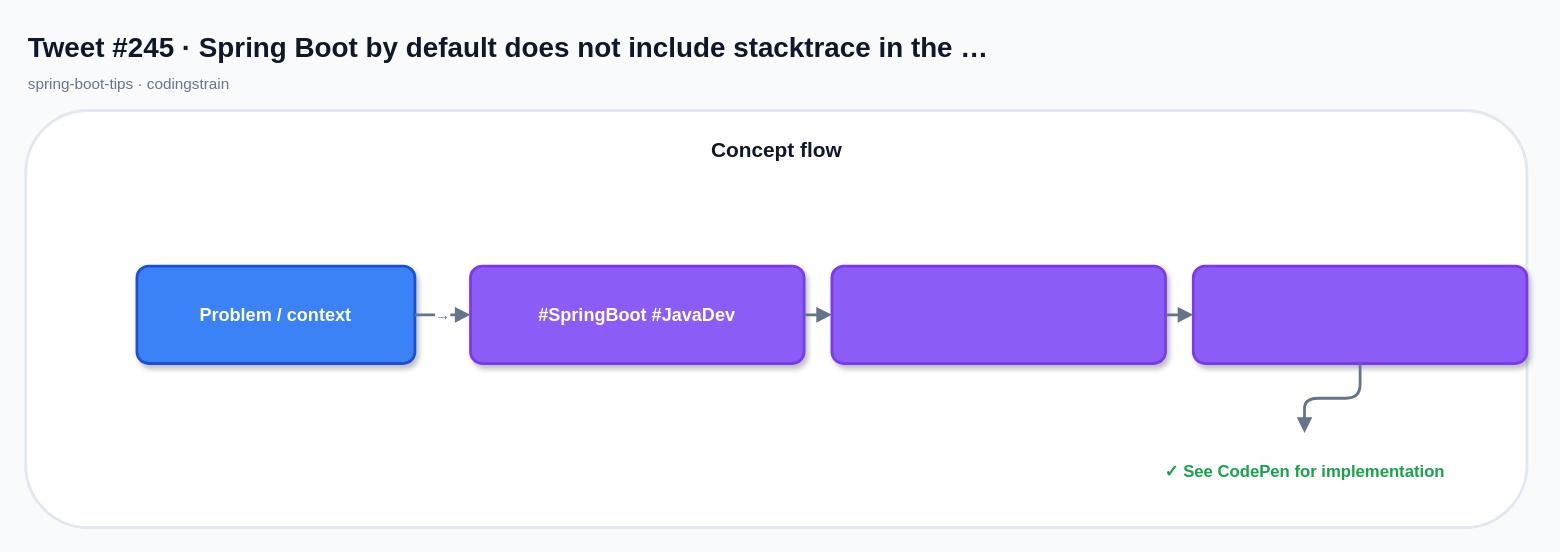
This 1560x552 diagram has some shape labels left out. Each missing label, with the centre of its shape:
"Architecture diagram + Carbon CodePen below" goes at point (1361, 316).
"Runnable sample: `spring-boot-tips`" goes at point (999, 316).
